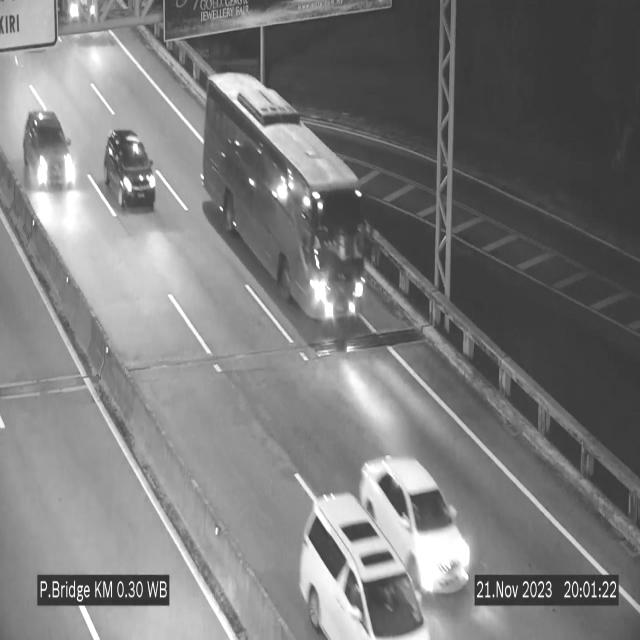Bus: (204, 74, 368, 330)
Car: (300, 495, 428, 640), (359, 455, 471, 595), (21, 108, 77, 199), (104, 130, 156, 210)
